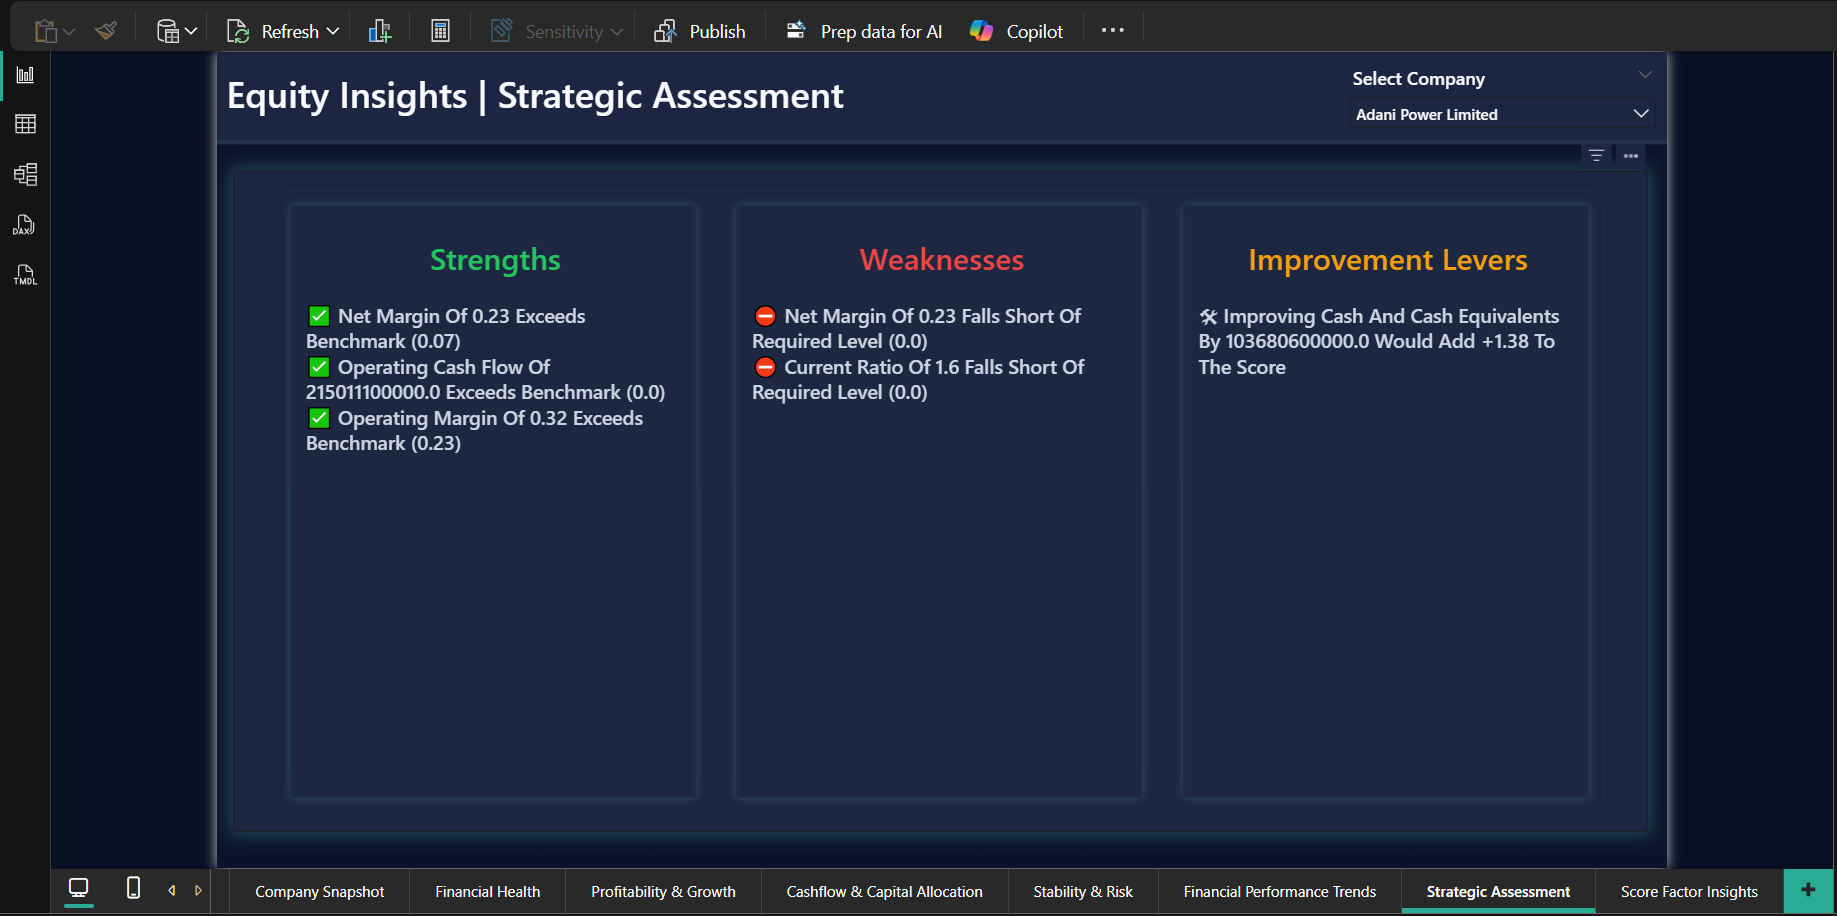

What the dashboard file says about the page in this screenshot:
{"tool":"powerbi","page":{"name":"Strategic Assessment","canvas":[1280,720],"ordinal":7},"visuals":[{"type":"shape","box":[0,0,1280,80],"z":0,"group":"g1"},{"type":"cardVisual","fields":{"Data":["Min(vw_company_explanation.strengths)","Min(vw_company_explanation.weaknesses)","Min(vw_company_explanation.improvement_levers)"]},"box":[14.3,104.3,1248.6,584.3],"z":0},{"type":"group","id":"g1","title":"Group 1","box":[0,0,1280,93.3],"z":1000},{"type":"textbox","box":[3.6,0,572.4,80.6],"z":1000,"group":"g1"},{"type":"slicer","fields":{"Values":["gold_equity_basemetrics.company_name"]},"box":[990,0,290,80],"z":2000,"group":"g1"},{"type":"shape","box":[0,66.7,1280,26.7],"z":4000,"group":"g1"}]}

Visuals, with their boxes on the page's 1280x720 design canvas (x1, y1, x2, y2). These are canvas units, not pixel positions in the 1837x916 screenshot, which may show the page scaled, cropped or inside an application window:
shape: 0:0:1280:80
cardVisual - Min(vw_company_explanation.strengths) x Min(vw_company_explanation.weaknesses): 14:104:1263:689
"Group 1" group: 0:0:1280:93
textbox: 4:0:576:81
slicer - gold_equity_basemetrics.company_name: 990:0:1280:80
shape: 0:67:1280:93
